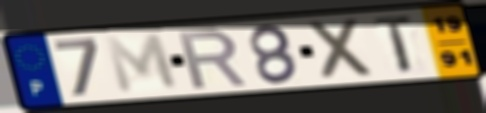7: (49, 35, 104, 100)
8: (247, 22, 300, 86)
M: (101, 32, 183, 96)
R: (175, 28, 251, 91)
T: (371, 12, 417, 77)
X: (305, 16, 379, 83)
